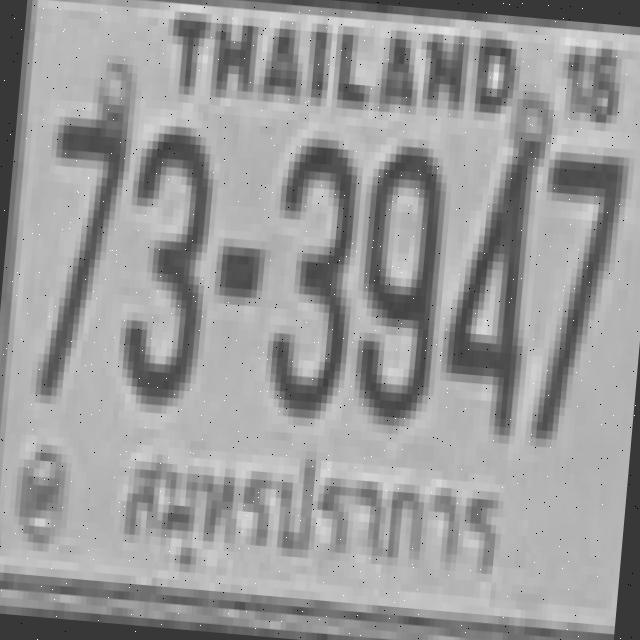3: (262, 128, 360, 412), (115, 115, 212, 399)
4: (439, 126, 538, 428)
7: (30, 83, 130, 400), (525, 142, 624, 444), (532, 142, 624, 353)
9: (346, 136, 444, 420)
SamutPrakan: (101, 428, 515, 604)
